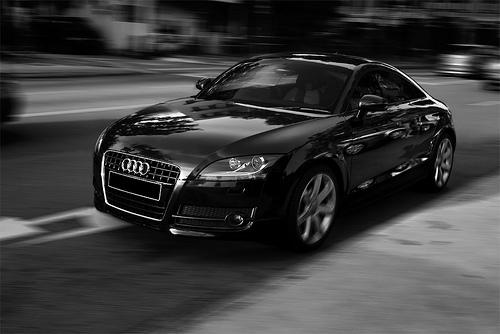Audi: (119, 154, 154, 179)
